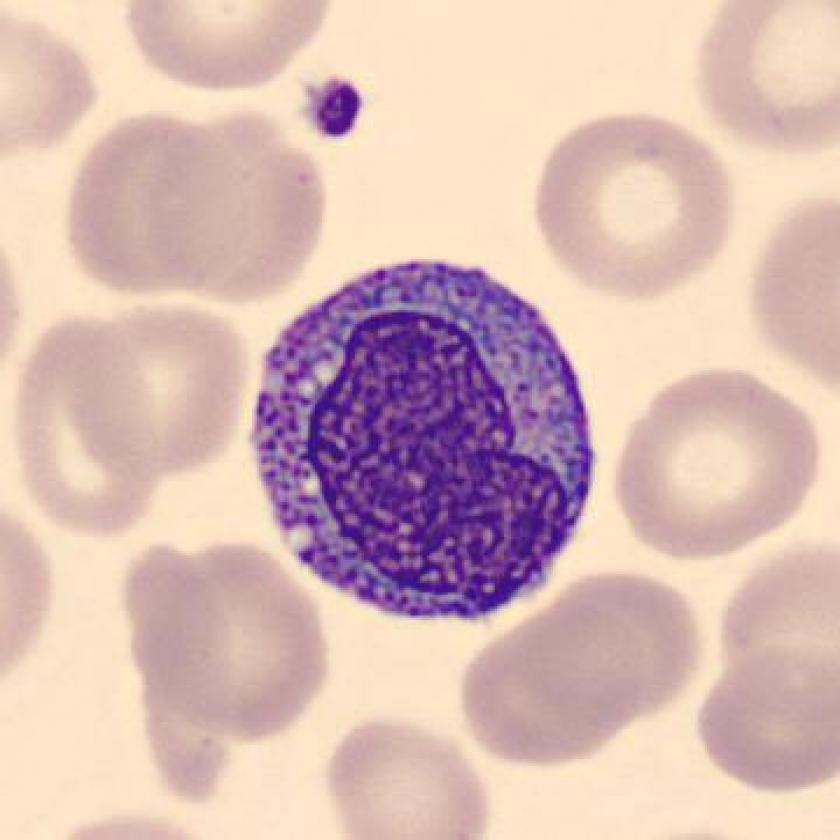monocyte: (230, 239, 622, 642)
